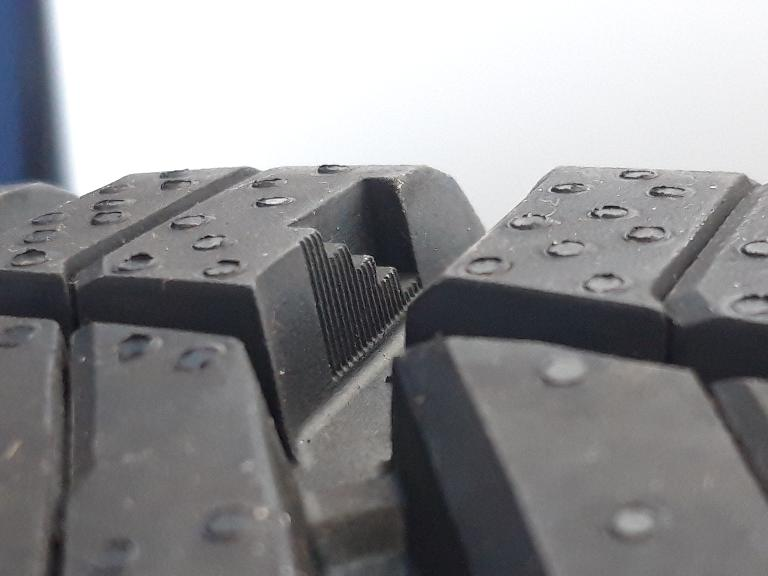temoin:100: (284, 173, 434, 387)
